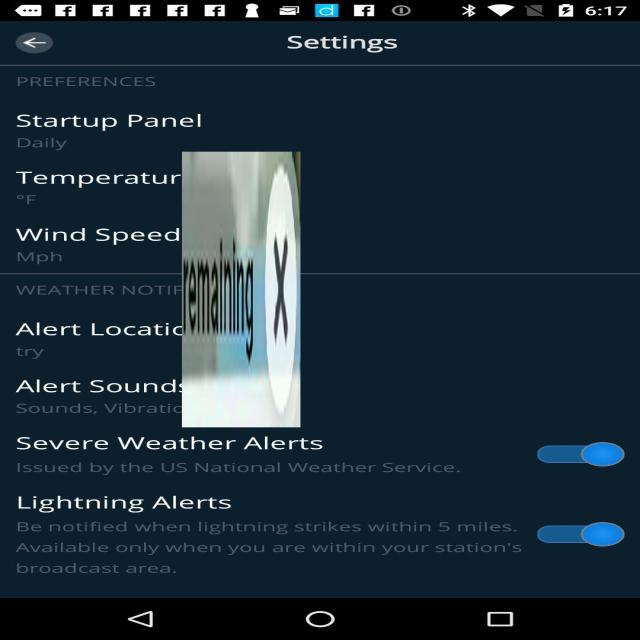misdirection: (182, 152, 300, 427)
